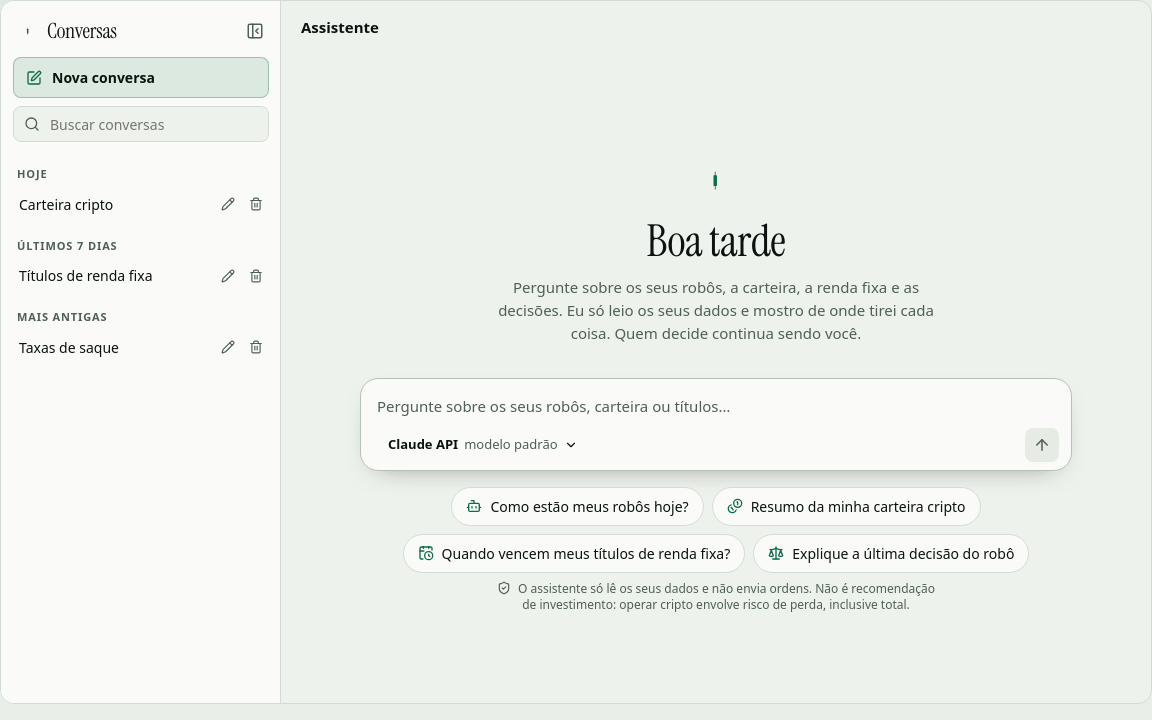
Test: Assistente: conversas › a barra de conversas recolhe e volta
Step 1. Click the button named "Esconder as conversas" → (255, 31), box [237, 13, 273, 49]
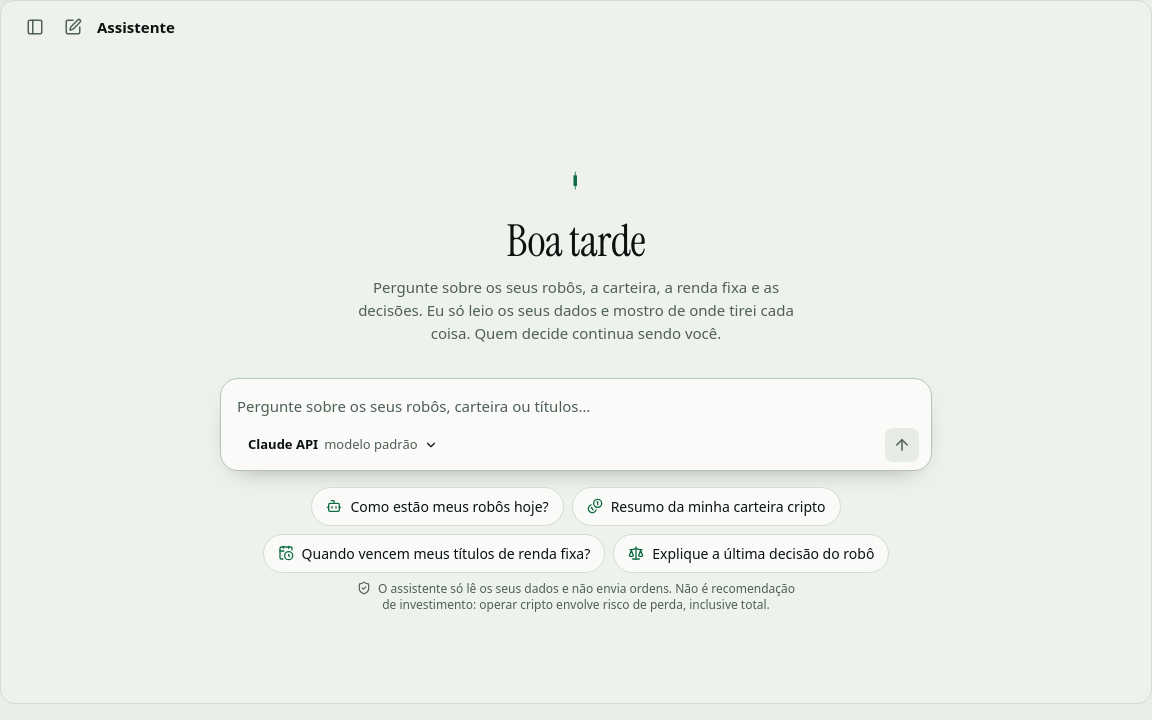
Now the text "Conversas" is gone
Step 2. Click the button named "Mostrar as conversas" → (35, 27), box [17, 9, 53, 45]
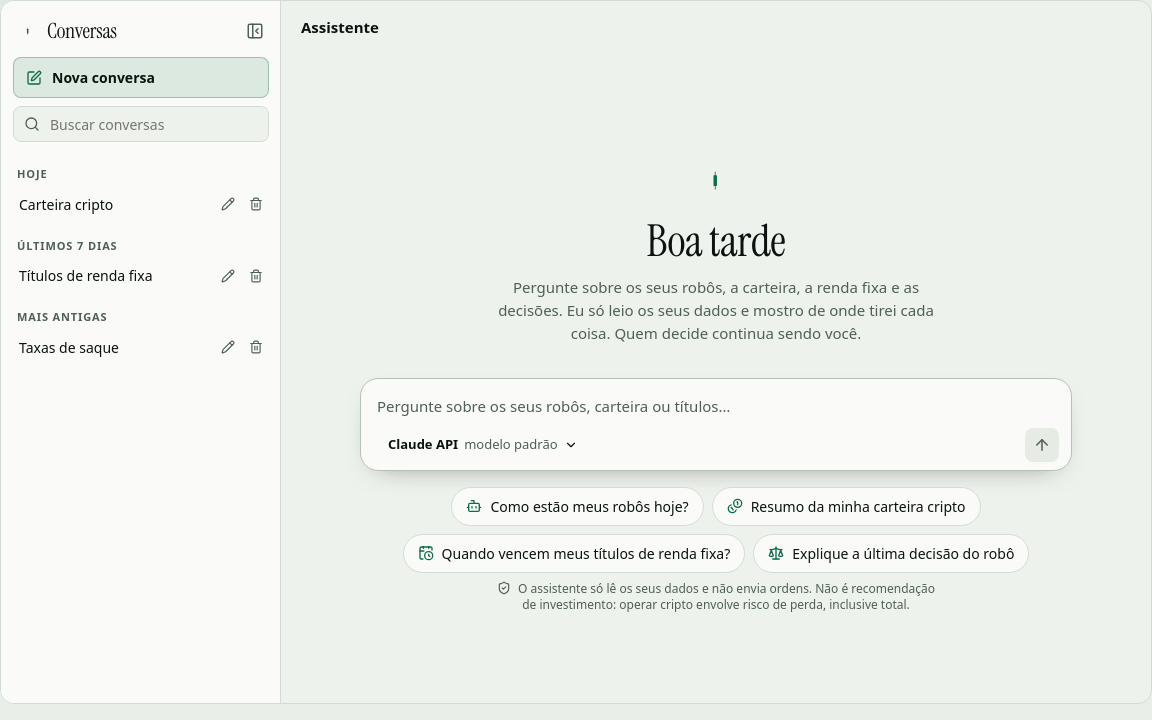
Now the navigation bar "Conversas" is shown, box [9, 13, 273, 364]
